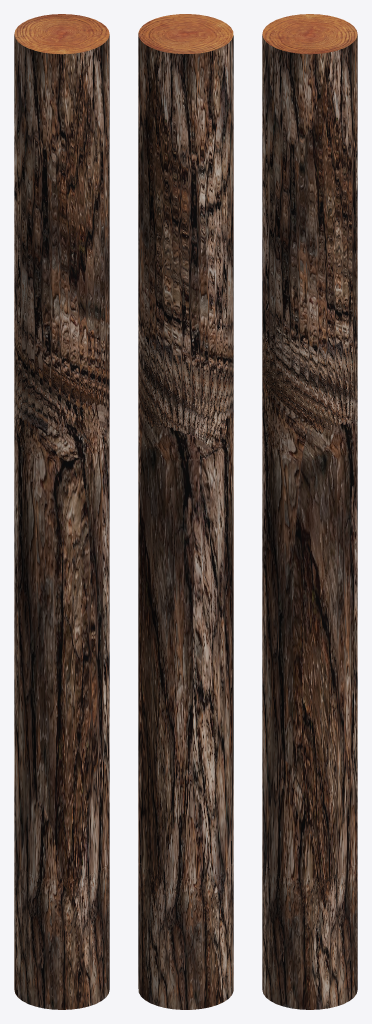
3 renders of one model, left to right at view 1: azimuth 90°, elevation 25°; view 2: azimuth 210°, elevation 25°; view 3: azimuth 270°, elevation 25°, orthographic.
Visible parts, largest first — view 1: 丸太; view 2: 丸太; view 3: 丸太.
Boxes of the visible parts, left/top/right/bottom form: 丸太: left=14, top=14, right=109, bottom=1009; 丸太: left=138, top=14, right=233, bottom=1009; 丸太: left=262, top=14, right=357, bottom=1009.
Bounding box in the file's own units: 31.07 × 344 × 31.07.
